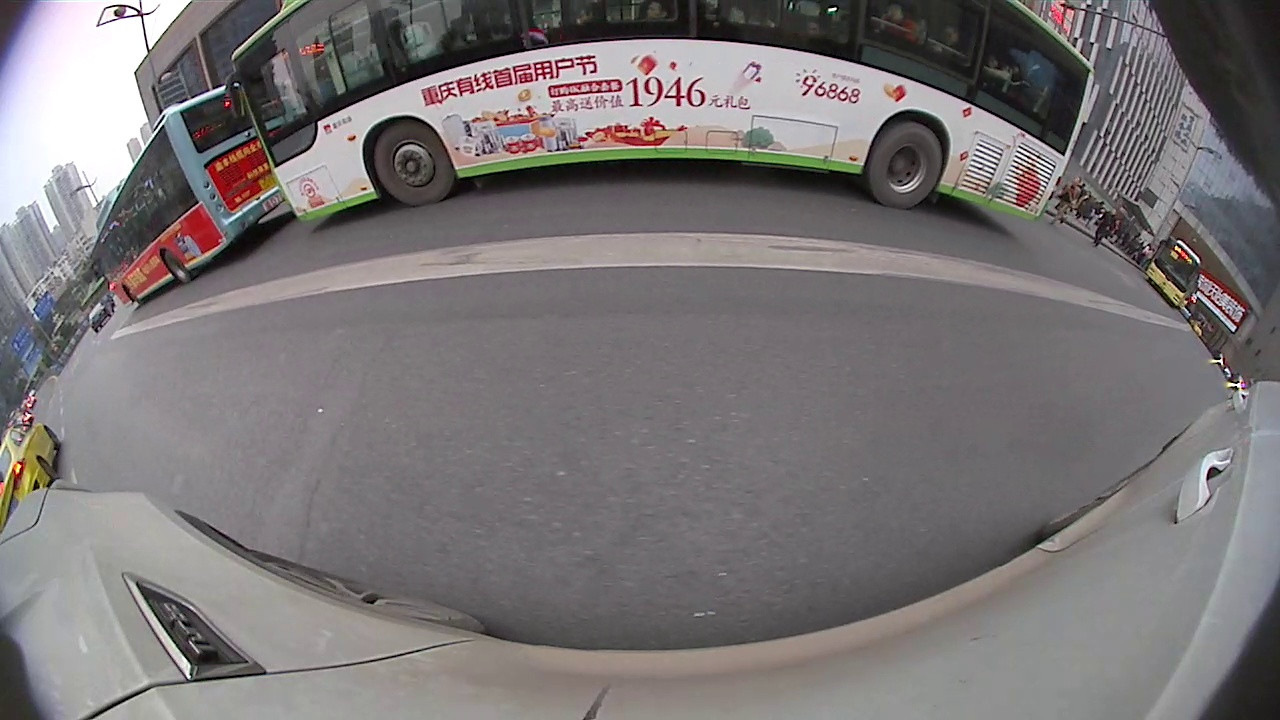bus: (233, 2, 1097, 224), (92, 82, 285, 307), (1144, 239, 1201, 307)
car: (1, 420, 63, 531), (87, 306, 114, 332)
front: (372, 124, 459, 208)
person: (1064, 173, 1081, 229), (1101, 204, 1114, 251)
rear: (870, 118, 946, 210), (158, 248, 194, 282)
